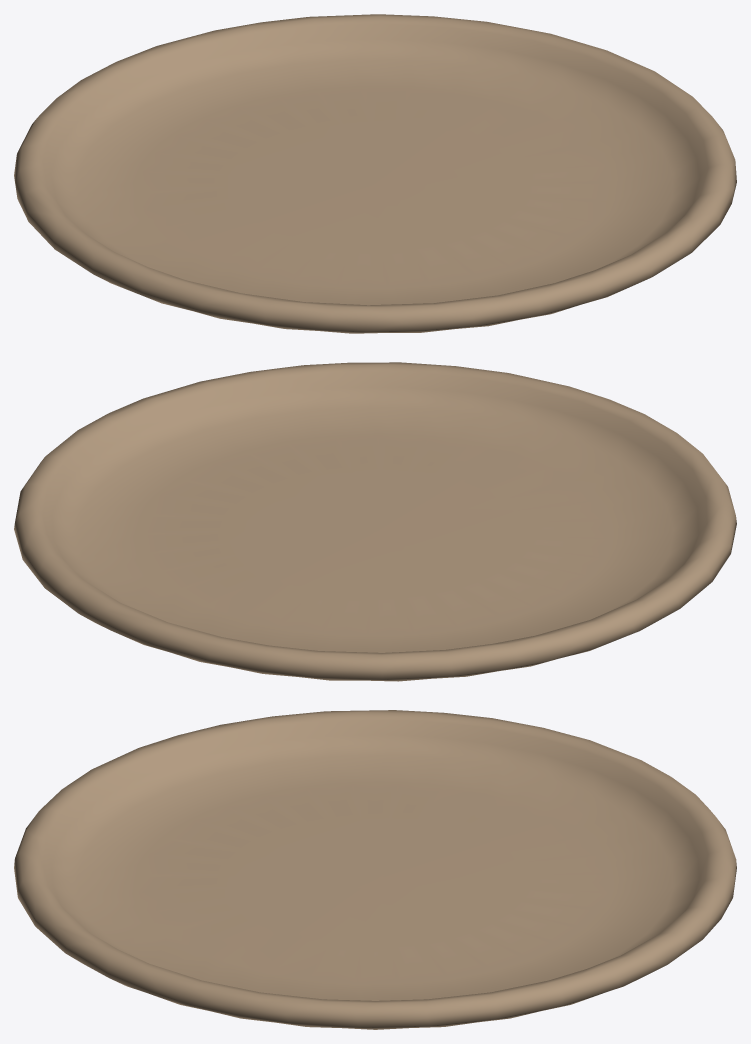
Rendered from ciasto-pizza.gltf.
3 renders of one model, top to bottom at view 1: azimuth 30°, elevation 25°; view 2: azimuth 150°, elevation 25°; view 3: azimuth 270°, elevation 25°, orthographic.
Parts seen in each view (by area): view 1: Cylinder; view 2: Cylinder; view 3: Cylinder.
Boxes of the visible parts, x1=… form: Cylinder: x1=14, y1=14, x2=736, y2=333; Cylinder: x1=14, y1=362, x2=736, y2=681; Cylinder: x1=14, y1=710, x2=736, y2=1029.
Bounding box in the file's own units: 1.44 × 0.0648 × 1.44.
1 material, 1 textured.
